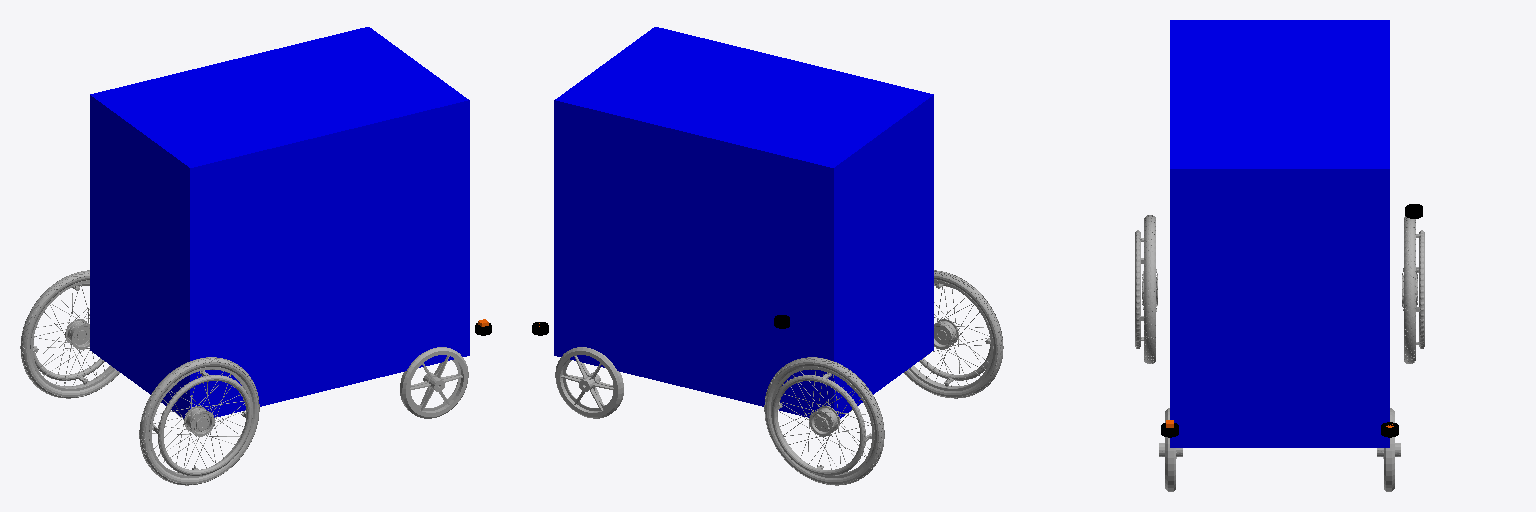
The robot description file, URDF, robot "gk01":
<?xml version="1.0" ?>
<!-- =================================================================================== -->
<!-- |    This document was autogenerated by xacro from src/swc_nav_bringup/urdf/gkchair01_base_sim.urdf | -->
<!-- |    EDITING THIS FILE BY HAND IS NOT RECOMMENDED                                 | -->
<!-- =================================================================================== -->
<robot name="gk01">
  <!-- <xacro:property name="wheel_joint_type" value="continuous" /> -->
  <!-- *********************** DRIVE WHEELS ******************************  -->
  <!-- Init colour -->
  <material name="black">
    <color rgba="0.0 0.0 0.0 1.0"/>
  </material>
  <material name="dark">
    <color rgba="0.3 0.3 0.3 1.0"/>
  </material>
  <material name="light_black">
    <color rgba="0.7 0.7 0.7 1.0"/>
  </material>
  <material name="blue">
    <color rgba="0.0 0.0 0.8 1.0"/>
  </material>
  <material name="light_blue">
    <color rgba="0.0 0.0 1.0 0.5"/>
  </material>
  <material name="green">
    <color rgba="0.0 0.8 0.0 1.0"/>
  </material>
  <material name="grey">
    <color rgba="0.5 0.5 0.5 1.0"/>
  </material>
  <material name="orange">
    <color rgba="1.0 0.4235 0.0392 1.0"/>
  </material>
  <material name="brown">
    <color rgba="0.8706 0.8118 0.7647 1.0"/>
  </material>
  <material name="red">
    <color rgba="0.8 0.0 0.0 1.0"/>
  </material>
  <material name="white">
    <color rgba="1.0 1.0 1.0 1.0"/>
  </material>
  <!-- ************************************************************************************************************************** -->
  <!-- ************************************************************************************************************************** -->
  <!-- ************************************************************************************************************************** -->
  <!-- ************************************************************************************************************************** -->
  <link name="base_footprint"/>
  <joint name="base_joint" type="fixed">
    <parent link="base_footprint"/>
    <child link="base_link"/>
    <origin rpy="0 0 0" xyz="0 0 0.29500000000000004"/>
  </joint>
  <!-- base link -->
  <link name="base_link">
    <visual>
      <origin rpy="0 0 0" xyz="0  0 0.2"/>
      <geometry>
        <!-- <mesh filename="package://swc_nav_bringup/meshes/robot_base.STL" scale="1.0 1.0 1.0"/> -->
        <box size="0.8 0.5   0.7"/>
      </geometry>
      <material name="light_blue"/>
    </visual>
    <collision>
      <origin rpy="0 0 0" xyz="0 0 0"/>
      <geometry>
        <box size="0.8 0.5 0.3"/>
      </geometry>
    </collision>
    <inertial>
      <origin rpy="1.5707963267948966 0 1.5707963267948966" xyz="0 0 0"/>
      <mass value="20.0"/>
      <inertia ixx="1.8833333333333335" ixy="0.0" ixz="0.0" iyy="1.4833333333333336" iyz="0.0" izz="1.2333333333333334"/>
    </inertial>
  </link>
  <link name="left_wheel_link">
    <visual>
      <origin rpy="0 0 1.5707963267948966" xyz="0 0 0"/>
      <geometry>
        <mesh filename="package://swc_nav_bringup/meshes/wheel2.STL" scale="0.6181818181818182 0.6181818181818182 0.6181818181818182"/>
      </geometry>
      <material name="light_black"/>
    </visual>
    <collision>
      <origin rpy="1.5707963267948966 0 0" xyz="0 0 0"/>
      <geometry>
        <cylinder length="0.07" radius="0.17"/>
      </geometry>
    </collision>
    <inertial>
      <origin rpy="1.5707963267948966 0 0" xyz="0 0 0"/>
      <mass value="5.5"/>
      <inertia ixx="0.04198333333333334" ixy="-4.2369783e-11" ixz="0" iyy="0.04198333333333334" iyz="0" izz="0.07947500000000002"/>
    </inertial>
  </link>
  <joint name="left_wheel_joint" type="continuous">
    <parent link="base_link"/>
    <child link="left_wheel_link"/>
    <origin rpy="0 0 0" xyz="-0.4 0.295 -0.125"/>
    <axis xyz="0 1 0"/>
    <!-- <limit upper="3.1415" lower="-3.1415" effort="30" velocity="5.0"/> -->
  </joint>
  <gazebo reference="left_wheel_link">
    <material>Gazebo/Black</material>
    <mu1>2.0</mu1>
    <!-- 摩擦系数 -->
    <mu2>2.0</mu2>
  </gazebo>
  <link name="right_wheel_link">
    <visual>
      <origin rpy="0 0 -1.5707963267948966" xyz="0 0 0"/>
      <geometry>
        <mesh filename="package://swc_nav_bringup/meshes/wheel2.STL" scale="0.6181818181818182 0.6181818181818182 0.6181818181818182"/>
      </geometry>
      <material name="light_black"/>
    </visual>
    <collision>
      <origin rpy="1.5707963267948966 0 0" xyz="0 0 0"/>
      <geometry>
        <cylinder length="0.07" radius="0.17"/>
      </geometry>
    </collision>
    <inertial>
      <origin rpy="1.5707963267948966 0 0" xyz="0 0 0"/>
      <mass value="5.5"/>
      <inertia ixx="0.04198333333333334" ixy="-4.2369783e-11" ixz="0" iyy="0.04198333333333334" iyz="0" izz="0.07947500000000002"/>
    </inertial>
  </link>
  <joint name="right_wheel_joint" type="continuous">
    <parent link="base_link"/>
    <child link="right_wheel_link"/>
    <origin rpy="0 0 0" xyz="-0.4 -0.295 -0.125"/>
    <axis xyz="0 1 0"/>
    <!-- <limit upper="3.1415" lower="-3.1415" effort="30" velocity="5.0"/> -->
  </joint>
  <gazebo reference="right_wheel_link">
    <material>Gazebo/Black</material>
    <mu1>2.0</mu1>
    <!-- 摩擦系数 -->
    <mu2>2.0</mu2>
  </gazebo>
  <link name="left_small_wheel_link">
    <visual>
      <origin rpy="0 0 1.5707963267948966" xyz="0 0 0"/>
      <geometry>
        <mesh filename="package://swc_nav_bringup/meshes/small_wheel.STL" scale="0.9973753280839895 0.9973753280839895 0.9973753280839895"/>
      </geometry>
      <material name="light_black"/>
    </visual>
    <collision>
      <origin rpy="1.5707963267948966 0 0" xyz="0 0 0"/>
      <geometry>
        <cylinder length="0.04" radius="0.095"/>
      </geometry>
    </collision>
    <inertial>
      <origin rpy="1.5707963267948966 0 0" xyz="0 0 0"/>
      <mass value="1.5"/>
      <inertia ixx="0.0035843750000000003" ixy="-4.2369783e-11" ixz="0" iyy="0.0035843750000000003" iyz="0" izz="0.0067687500000000005"/>
    </inertial>
  </link>
  <joint name="left_small_wheel_joint" type="fixed">
    <parent link="base_link"/>
    <child link="left_small_wheel_link"/>
    <origin rpy="0 0 0" xyz="0.29999999999999993 0.248 -0.20000000000000004"/>
    <axis xyz="0 1 0"/>
    <limit effort="30" lower="-3.1415" upper="3.1415" velocity="5.0"/>
  </joint>
  <gazebo reference="left_small_wheel_link">
    <material>Gazebo/Black</material>
    <mu1>0.001</mu1>
    <!-- 摩擦系数 -->
    <mu2>0.001</mu2>
  </gazebo>
  <link name="right_small_wheel_link">
    <visual>
      <origin rpy="0 0 -1.5707963267948966" xyz="0 0 0"/>
      <geometry>
        <mesh filename="package://swc_nav_bringup/meshes/small_wheel.STL" scale="0.9973753280839895 0.9973753280839895 0.9973753280839895"/>
      </geometry>
      <material name="light_black"/>
    </visual>
    <collision>
      <origin rpy="1.5707963267948966 0 0" xyz="0 0 0"/>
      <geometry>
        <cylinder length="0.04" radius="0.095"/>
      </geometry>
    </collision>
    <inertial>
      <origin rpy="1.5707963267948966 0 0" xyz="0 0 0"/>
      <mass value="1.5"/>
      <inertia ixx="0.0035843750000000003" ixy="-4.2369783e-11" ixz="0" iyy="0.0035843750000000003" iyz="0" izz="0.0067687500000000005"/>
    </inertial>
  </link>
  <joint name="right_small_wheel_joint" type="fixed">
    <parent link="base_link"/>
    <child link="right_small_wheel_link"/>
    <origin rpy="0 0 0" xyz="0.29999999999999993 -0.248 -0.20000000000000004"/>
    <axis xyz="0 1 0"/>
    <limit effort="30" lower="-3.1415" upper="3.1415" velocity="5.0"/>
  </joint>
  <gazebo reference="right_small_wheel_link">
    <material>Gazebo/Black</material>
    <mu1>0.001</mu1>
    <!-- 摩擦系数 -->
    <mu2>0.001</mu2>
  </gazebo>
  <!-- laser joint -->
  <joint name="laser_joint" type="fixed">
    <parent link="base_link"/>
    <child link="laser_link"/>
    <origin xyz="0.44 -0.25 -0.08500000000000003"/>
  </joint>
  <!-- laser link -->
  <link name="laser_link">
    <visual>
      <origin rpy="0 0 0" xyz="0 0 0"/>
      <geometry>
        <cylinder length="0.02" radius="0.02"/>
      </geometry>
      <material name="black"/>
    </visual>
    <inertial>
      <origin rpy="1.5707963267948966 0 0" xyz="0 0 0"/>
      <mass value="0.02"/>
      <inertia ixx="2.6666666666666664e-06" ixy="-4.2369783e-11" ixz="0" iyy="2.6666666666666664e-06" iyz="0" izz="4.000000000000001e-06"/>
    </inertial>
  </link>
  <!-- imu joint -->
  <joint name="imu_joint" type="fixed">
    <parent link="laser_link"/>
    <child link="imu_link"/>
    <origin xyz="0 0 0.01"/>
  </joint>
  <link name="imu_link">
    <visual>
      <origin rpy="0 0 0" xyz="0 0 0.0"/>
      <geometry>
        <box size="0.02 0.02 0.02"/>
      </geometry>
      <material name="orange"/>
    </visual>
    <inertial>
      <origin rpy="1.5707963267948966 0 1.5707963267948966" xyz="0 0 0"/>
      <mass value="0.01"/>
      <inertia ixx="6.666666666666667e-07" ixy="0.0" ixz="0.0" iyy="6.666666666666667e-07" iyz="0.0" izz="6.666666666666667e-07"/>
    </inertial>
  </link>
  <joint name="laser_ms200_joint" type="fixed">
    <parent link="base_link"/>
    <child link="laser_ms200_link"/>
    <origin xyz="-0.285 0.305 0.125"/>
  </joint>
  <link name="laser_ms200_link">
    <visual>
      <origin rpy="0 0 0" xyz="0 0 0"/>
      <geometry>
        <cylinder length="0.02" radius="0.02"/>
      </geometry>
      <material name="black"/>
    </visual>
    <inertial>
      <origin rpy="1.5707963267948966 0 0" xyz="0 0 0"/>
      <mass value="0.02"/>
      <inertia ixx="2.6666666666666664e-06" ixy="-4.2369783e-11" ixz="0" iyy="2.6666666666666664e-06" iyz="0" izz="4.000000000000001e-06"/>
    </inertial>
  </link>
  <joint name="livox_frame_joint" type="fixed">
    <parent link="base_link"/>
    <child link="livox_frame"/>
    <origin xyz="0.44 0.25 -0.08500000000000003"/>
  </joint>
  <link name="livox_frame">
    <visual>
      <origin rpy="0 0 0" xyz="0 0 0"/>
      <geometry>
        <cylinder length="0.02" radius="0.02"/>
      </geometry>
      <material name="black"/>
    </visual>
    <inertial>
      <origin rpy="1.5707963267948966 0 0" xyz="0 0 0"/>
      <mass value="0.02"/>
      <inertia ixx="2.6666666666666664e-06" ixy="-4.2369783e-11" ixz="0" iyy="2.6666666666666664e-06" iyz="0" izz="4.000000000000001e-06"/>
    </inertial>
  </link>
  <gazebo reference="base_link">
    <material>Gazebo/Red</material>
  </gazebo>
  <!-- *********************** IMU SETUP *********************************  -->
  <!-- Each sensor must be attached to a link.                              -->
  <gazebo reference="imu_link">
    <gravity>true</gravity>
    <sensor name="wc_imu" type="imu">
      <always_on>true</always_on>
      <update_rate>100</update_rate>
      <visualize>true</visualize>
      <imu>
        <orientation>
          <x>
            <noise type="gaussian">
              <mean>0.0</mean>
              <stddev>2e-3</stddev>
            </noise>
          </x>
          <y>
            <noise type="gaussian">
              <mean>0.0</mean>
              <stddev>2e-3</stddev>
            </noise>
          </y>
          <z>
            <noise type="gaussian">
              <mean>0.0</mean>
              <stddev>2e-3</stddev>
            </noise>
          </z>
        </orientation>
        <angular_velocity>
          <x>
            <noise type="gaussian">
              <mean>0.0</mean>
              <stddev>2e-4</stddev>
            </noise>
          </x>
          <y>
            <noise type="gaussian">
              <mean>0.0</mean>
              <stddev>2e-4</stddev>
            </noise>
          </y>
          <z>
            <noise type="gaussian">
              <mean>0.0</mean>
              <stddev>2e-4</stddev>
            </noise>
          </z>
        </angular_velocity>
        <linear_acceleration>
          <x>
            <noise type="gaussian">
              <mean>0.0</mean>
              <stddev>1.7e-2</stddev>
            </noise>
          </x>
          <y>
            <noise type="gaussian">
              <mean>0.0</mean>
              <stddev>1.7e-2</stddev>
            </noise>
          </y>
          <z>
            <noise type="gaussian">
              <mean>0.0</mean>
              <stddev>1.7e-2</stddev>
            </noise>
          </z>
        </linear_acceleration>
      </imu>
      <plugin filename="libgazebo_ros_imu_sensor.so" name="wc_robot_imu">
        <initial_orientation_as_reference>false</initial_orientation_as_reference>
        <frame_name>imu_link</frame_name>
        <ros>
          <namespace>/imu</namespace>
          <remapping>~/out:=data_raw_cmp10a</remapping>
        </ros>
      </plugin>
    </sensor>
  </gazebo>
  <!-- *********************** LIDAR SETUP **********************************  -->
  <gazebo reference="laser_link">
    <sensor name="wc_lidar" type="ray">
      <always_on>true</always_on>
      <visualize>true</visualize>
      <pose>-0.064 0 0.15 0 0 0</pose>
      <update_rate>5</update_rate>
      <ray>
        <scan>
          <horizontal>
            <samples>360</samples>
            <resolution>1.000000</resolution>
            <min_angle>0.000000</min_angle>
            <max_angle>6.280000</max_angle>
          </horizontal>
        </scan>
        <range>
          <min>0.120000</min>
          <max>20.0</max>
          <resolution>0.015000</resolution>
        </range>
        <noise>
          <type>gaussian</type>
          <mean>0.0</mean>
          <stddev>0.01</stddev>
        </noise>
      </ray>
      <plugin filename="libgazebo_ros_ray_sensor.so" name="scan_s2_plugin">
        <ros>
          <remapping>~/out:=scan_s2_raw</remapping>
        </ros>
        <output_type>sensor_msgs/LaserScan</output_type>
        <frame_name>laser_link</frame_name>
      </plugin>
    </sensor>
  </gazebo>
  <gazebo reference="laser_ms200_link">
    <sensor name="laser_ms200_plugin" type="ray">
      <always_on>true</always_on>
      <visualize>true</visualize>
      <pose>-0.064 0 0.15 0 0 0</pose>
      <update_rate>5</update_rate>
      <ray>
        <scan>
          <horizontal>
            <samples>360</samples>
            <resolution>1.000000</resolution>
            <min_angle>0.000000</min_angle>
            <max_angle>6.280000</max_angle>
          </horizontal>
        </scan>
        <range>
          <min>0.120000</min>
          <max>20.0</max>
          <resolution>0.015000</resolution>
        </range>
        <noise>
          <type>gaussian</type>
          <mean>0.0</mean>
          <stddev>0.01</stddev>
        </noise>
      </ray>
      <plugin filename="libgazebo_ros_ray_sensor.so" name="scan_ms200_plugin">
        <ros>
          <remapping>~/out:=scan_ms200_raw</remapping>
        </ros>
        <output_type>sensor_msgs/LaserScan</output_type>
        <frame_name>laser_ms200_link</frame_name>
      </plugin>
    </sensor>
  </gazebo>
  <!-- *********************** WHEEL ODOMETRY ***************************    -->
  <gazebo>
    <plugin filename="libgazebo_ros_diff_drive.so" name="differential_drive_controller">
      <ros>
        <remapping>/tf:=tf</remapping>
      </ros>
      <update_rate>30</update_rate>
      <!-- wheels -->
      <left_joint>left_wheel_joint</left_joint>
      <right_joint>right_wheel_joint</right_joint>
      <!-- kinematics -->
      <wheel_separation>0.6</wheel_separation>
      <wheel_diameter>0.170</wheel_diameter>
      <!-- limits -->
      <max_wheel_torque>300</max_wheel_torque>
      <max_wheel_acceleration>0.4</max_wheel_acceleration>
      <!-- Receive velocity commands on this ROS topic -->
      <command_topic>cmd_vel</command_topic>
      <!-- <command_topic>cmd_vel_chassis</command_topic> -->
      <publish_odom>false</publish_odom>
      <publish_odom_tf>false</publish_odom_tf>
      <publish_wheel_tf>false</publish_wheel_tf>
      <odometry_topic>odom</odometry_topic>
      <odometry_frame>odom</odometry_frame>
      <robot_base_frame>base_footprint</robot_base_frame>
    </plugin>
  </gazebo>
  <!-- mid360_imu plugin -->
  <!-- https://github.com/ros-simulation/gazebo_ros_pkgs/wiki/ROS-2-Migration:-IMU-Sensors -->
  <joint name="livox_imu_joint" type="fixed">
    <parent link="base_link"/>
    <child link="livox_imu"/>
    <origin xyz="0.44 0.25 -0.08500000000000003"/>
  </joint>
  <link name="livox_imu">
    <visual>
      <origin rpy="0 0 0" xyz="0 0 0.0"/>
      <geometry>
        <box size="0.02 0.02 0.02"/>
      </geometry>
      <material name="orange"/>
    </visual>
    <inertial>
      <origin rpy="1.5707963267948966 0 1.5707963267948966" xyz="0 0 0"/>
      <mass value="0.01"/>
      <inertia ixx="6.666666666666667e-07" ixy="0.0" ixz="0.0" iyy="6.666666666666667e-07" iyz="0.0" izz="6.666666666666667e-07"/>
    </inertial>
  </link>
  <gazebo reference="livox_imu">
    <sensor name="mid360_imu" type="imu">
      <always_on>true</always_on>
      <update_rate>100</update_rate>
      <plugin filename="libgazebo_ros_imu_sensor.so" name="imu_plugin">
        <ros>
          <namespace>/</namespace>
          <remapping>~/out:=/livox/imu</remapping>
        </ros>
        <frame_name>livox_frame</frame_name>
      </plugin>
    </sensor>
  </gazebo>
  <gazebo reference="livox_frame">
    <sensor name="livox_frame" type="ray">
      <pose>0 0 0 0 0 0</pose>
      <visualize>true</visualize>
      <update_rate>10</update_rate>
      <plugin filename="libros2_livox.so" name="livox_frame_plugin">
        <ray>
          <scan>
            <horizontal>
              <samples>100</samples>
              <resolution>1</resolution>
              <min_angle>0</min_angle>
              <max_angle>6.2831852</max_angle>
            </horizontal>
            <vertical>
              <samples>360</samples>
              <resolution>1</resolution>
              <min_angle>-0.12601276984444446</min_angle>
              <max_angle>0.9637707965111111</max_angle>
            </vertical>
          </scan>
          <range>
            <min>0.1</min>
            <max>200.0</max>
            <resolution>0.002</resolution>
          </range>
          <noise>
            <type>gaussian</type>
            <mean>0.0</mean>
            <stddev>0.002</stddev>
          </noise>
        </ray>
        <visualize>false</visualize>
        <samples>30000</samples>
        <downsample>1</downsample>
        <csv_file_name>[local-path]/Desktop/SmartWCHR/install/ros2_livox_simulation/share/ros2_livox_simulation/scan_mode/mid360.csv</csv_file_name>
        <topic>/livox/lidar</topic>
      </plugin>
    </sensor>
  </gazebo>
</robot>

--- Render facts (derived) ---
Views: 3 orthographic renders of the robot side by side, from view 1: azimuth 30°, elevation 25°; view 2: azimuth 150°, elevation 25°; view 3: azimuth 270°, elevation 25°.
Model gk01 with 11 links and 10 joints (2 continuous, 8 fixed), rooted at base_footprint, posed all joints at 0.
Visible links, largest first — view 1: base_link, right_wheel_link, left_wheel_link, right_small_wheel_link; view 2: base_link, left_wheel_link, right_wheel_link, left_small_wheel_link; view 3: base_link, right_wheel_link, left_wheel_link, left_small_wheel_link, right_small_wheel_link.
Boxes of the visible links, box(x1,y1,x2,y2) form: base_link: box(90, 27, 469, 418); right_wheel_link: box(139, 357, 259, 485); left_wheel_link: box(20, 270, 119, 398); right_small_wheel_link: box(400, 347, 468, 418); base_link: box(554, 27, 933, 418); left_wheel_link: box(764, 357, 884, 485); right_wheel_link: box(904, 270, 1003, 398); left_small_wheel_link: box(555, 347, 623, 418); base_link: box(1170, 20, 1389, 447); right_wheel_link: box(1135, 215, 1157, 363); left_wheel_link: box(1402, 216, 1424, 363); left_small_wheel_link: box(1377, 408, 1400, 491); right_small_wheel_link: box(1159, 408, 1182, 491).
Bounding box of the posed robot: 1.03 × 0.6601 × 0.845 m (x, y, z).
4 mesh visuals loaded from 2 distinct referenced files (2 binary STL).
